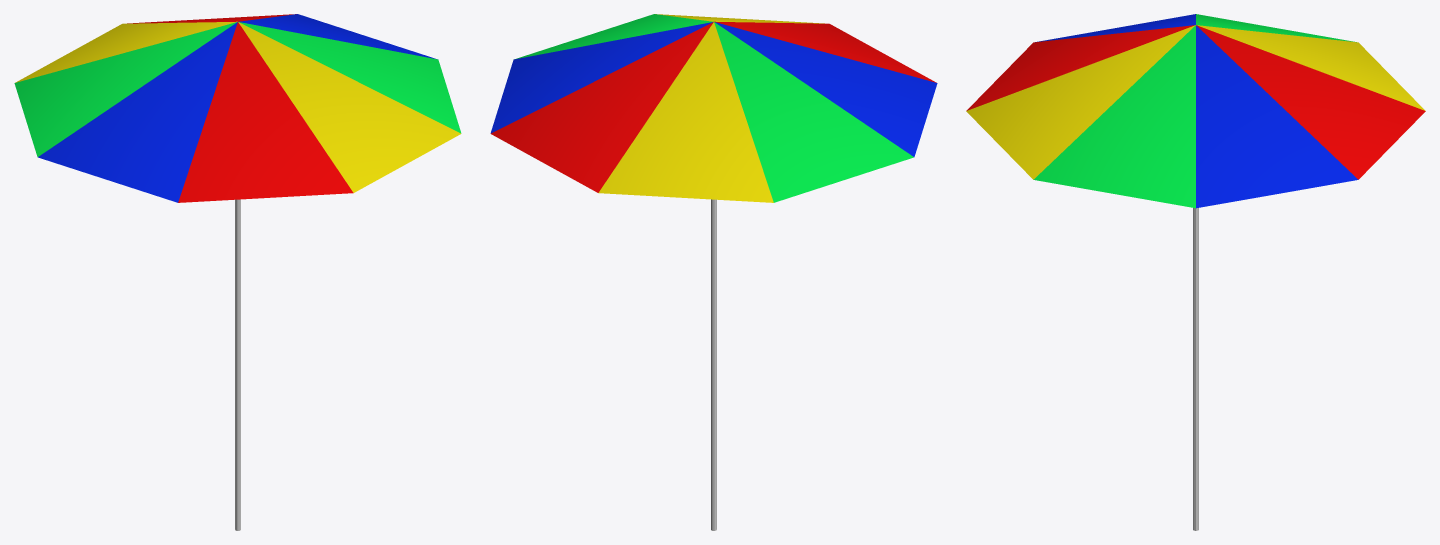
File: Umbrella.fbx
3 renders of one model, left to right at view 1: azimuth 30°, elevation 25°; view 2: azimuth 150°, elevation 25°; view 3: azimuth 270°, elevation 25°, orthographic.
Parts seen in each view (by area): view 1: pCylinder1; view 2: pCylinder1; view 3: pCylinder1.
Boxes of the visible parts, <box> form: pCylinder1: <box>14,14,461,530</box>; pCylinder1: <box>490,14,937,530</box>; pCylinder1: <box>966,14,1425,530</box>.
Bounding box in the file's own units: 3.34 × 4.05 × 3.34.
